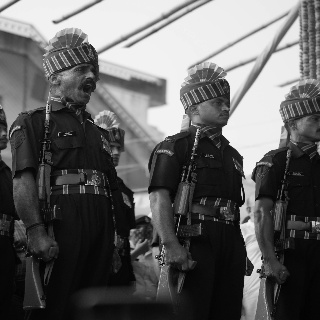rifle: (155, 127, 201, 317), (22, 88, 60, 312), (254, 148, 294, 320)
